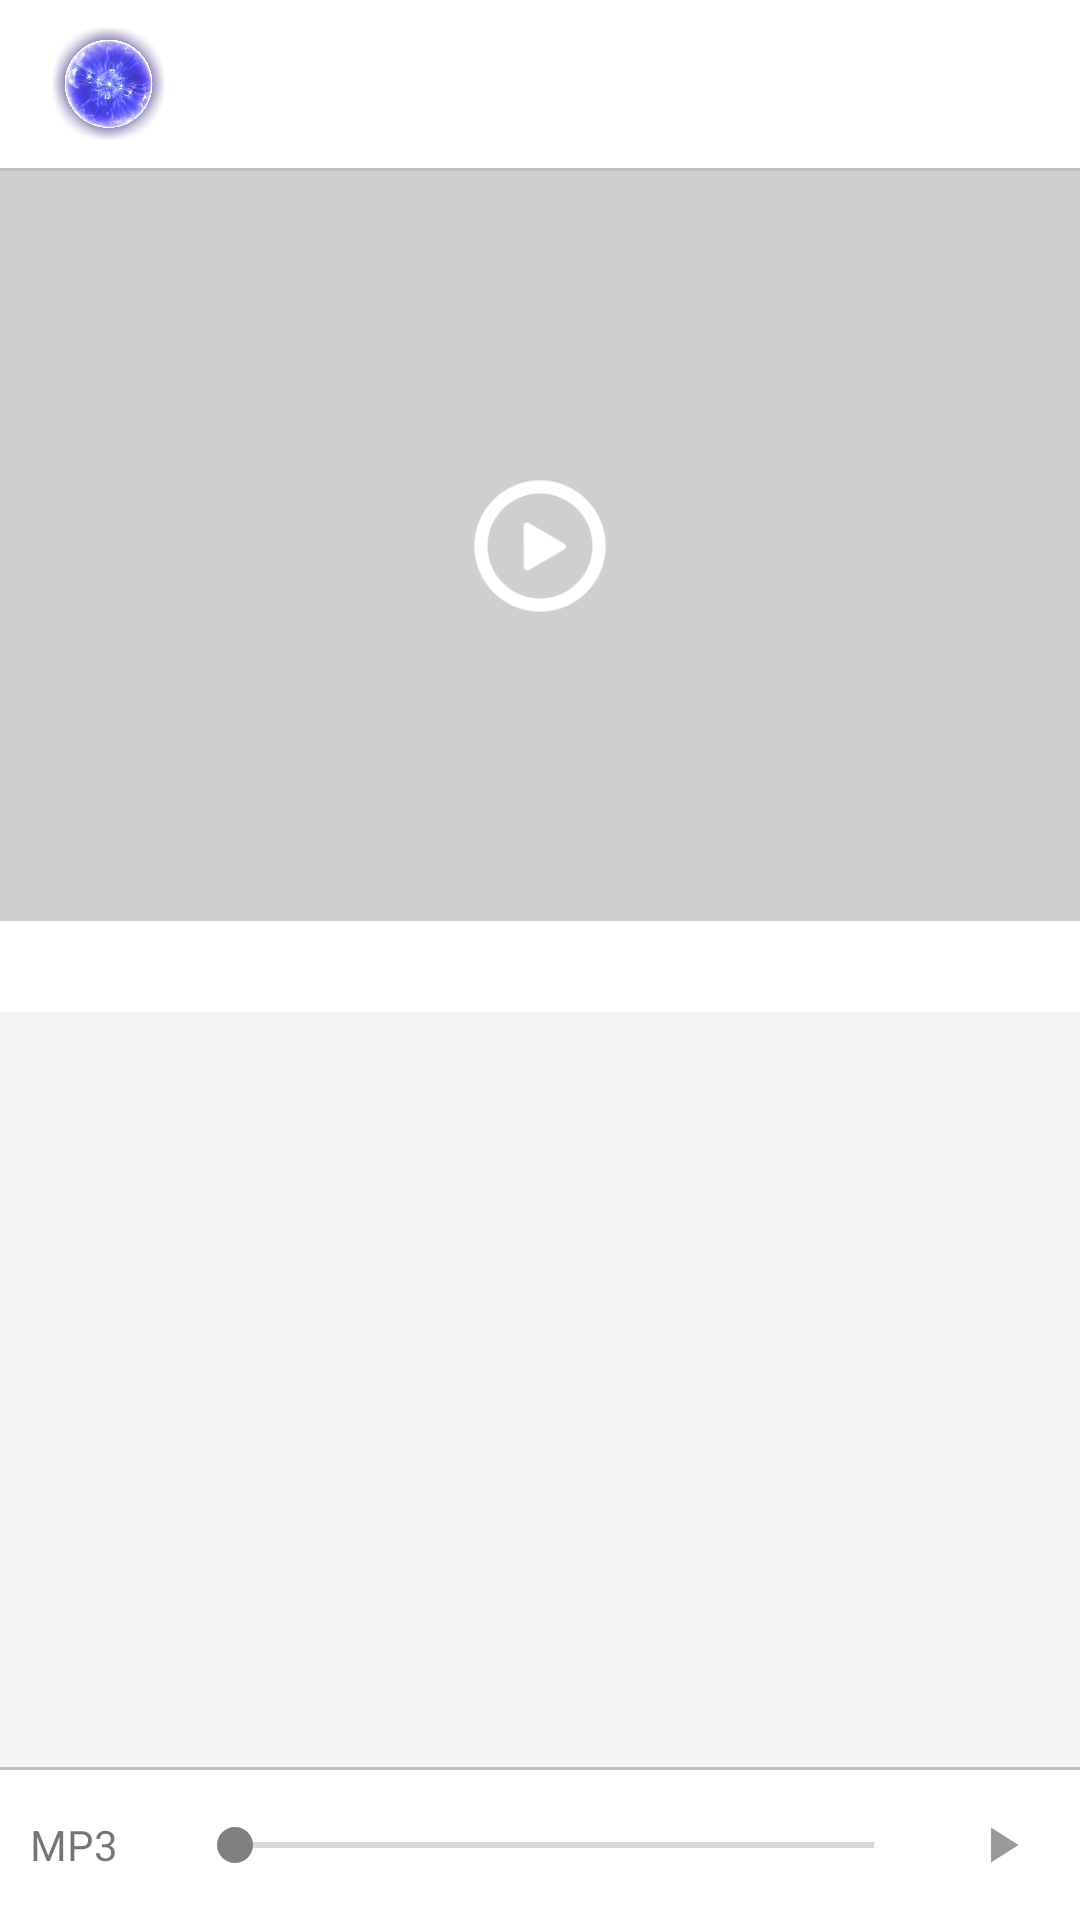

Screen size 1080x1920. Icon name, then its center in pixels as (x=x, y=y):
play arrow: (x=1004, y=1845)
play circle: (x=540, y=546)
